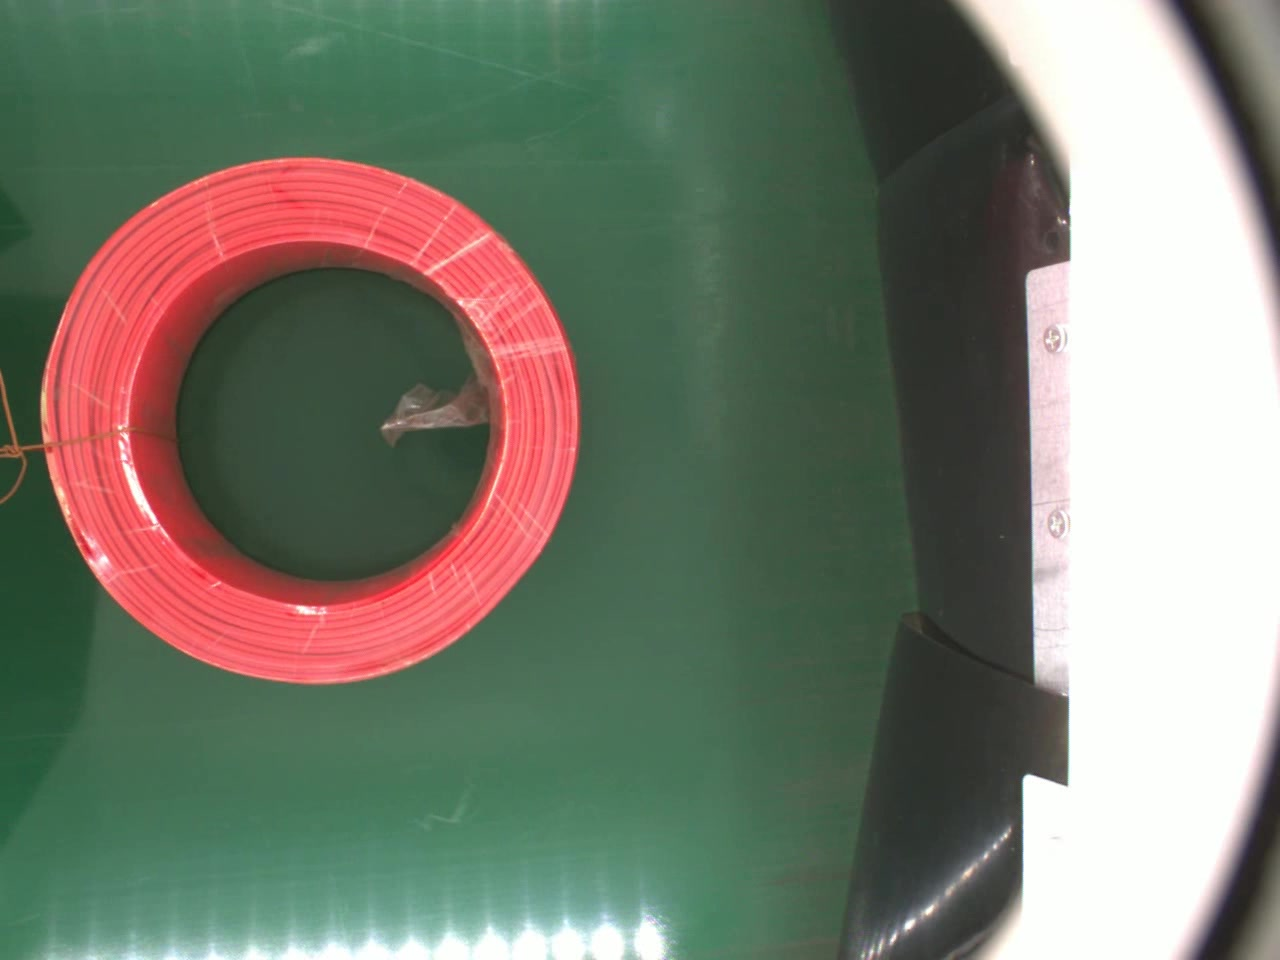red: (36, 145, 585, 686)
